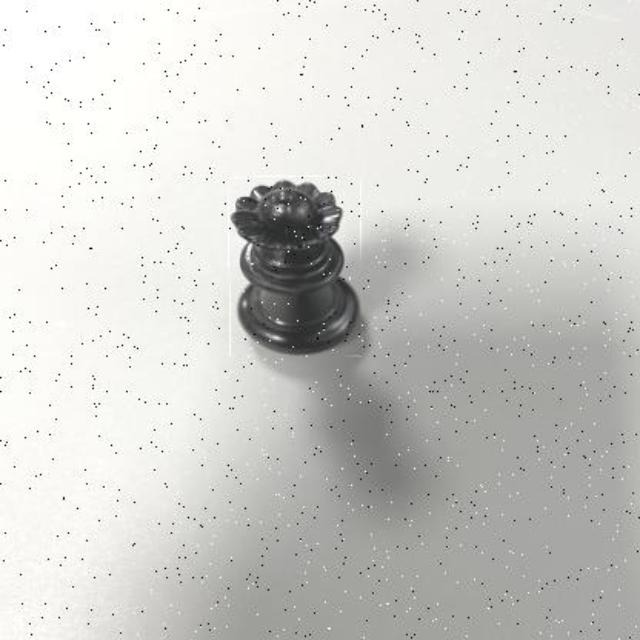black-queen: (229, 177, 361, 357)
